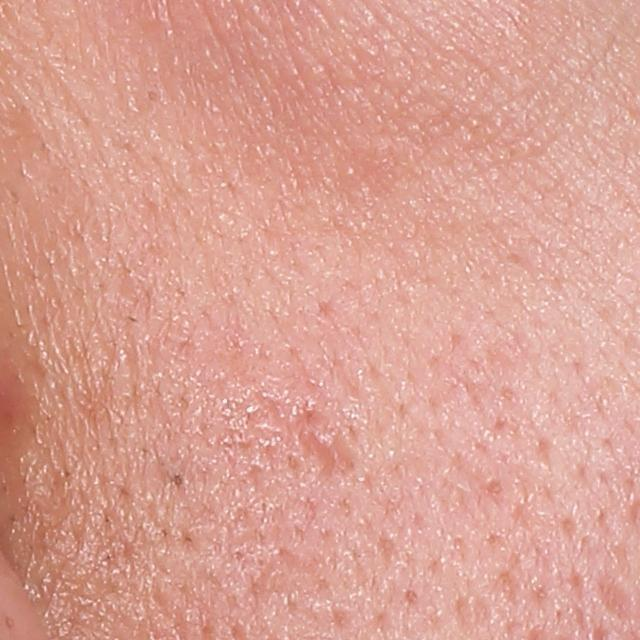atrophic_scar: (288, 407, 363, 476), (595, 566, 638, 631)
